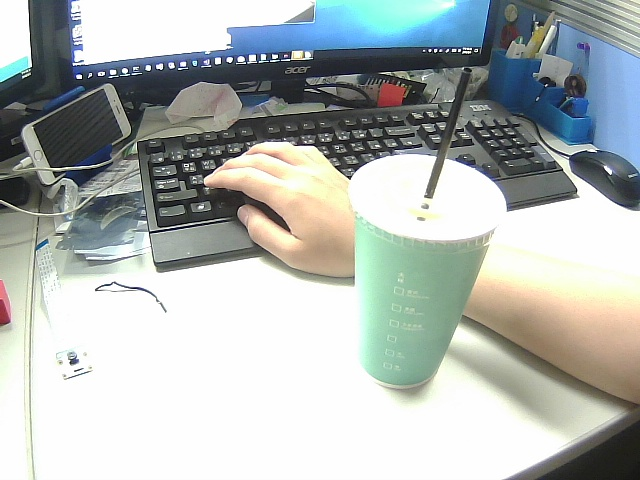beverage: (336, 62, 529, 410)
